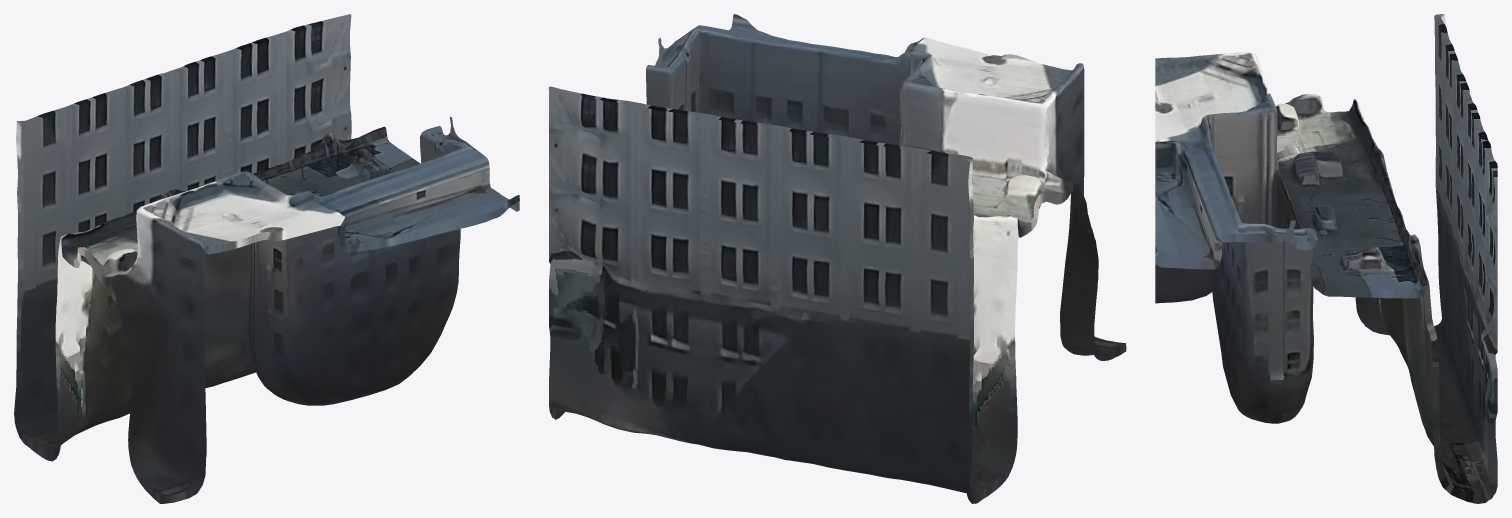
The model's file is z20-167758-405239-h0-yup-uvflip-v3-world.glb.
3 renders of one model, left to right at view 1: azimuth 30°, elevation 25°; view 2: azimuth 150°, elevation 25°; view 3: azimuth 270°, elevation 25°, orthographic. The views are drawn at different scales.
Bounding box in the file's own units: 30.24 × 25.56 × 24.68.
Materials: 1 (1 with a texture image).
